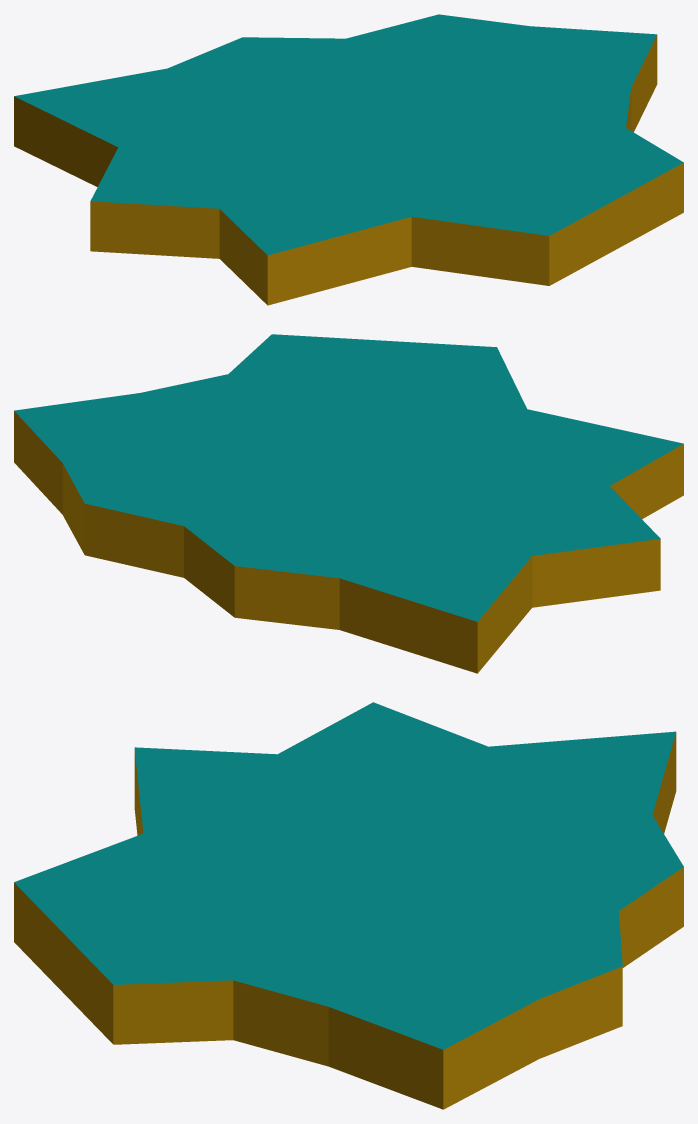
File: piattaforma boschetti.fbx
3 views of the same model, one above another, from view 1: azimuth 30°, elevation 25°; view 2: azimuth 150°, elevation 25°; view 3: azimuth 270°, elevation 25° (orthographic). The views are drawn at different scales.
Parts seen in each view (by area): view 1: prim0; view 2: prim0; view 3: prim0.
Part boxes in pixels (left/top/right/bottom): prim0: left=14, top=14, right=683, bottom=305; prim0: left=14, top=334, right=683, bottom=673; prim0: left=14, top=702, right=683, bottom=1109.
Bounding box in the file's own units: 6231 × 500 × 5074.
